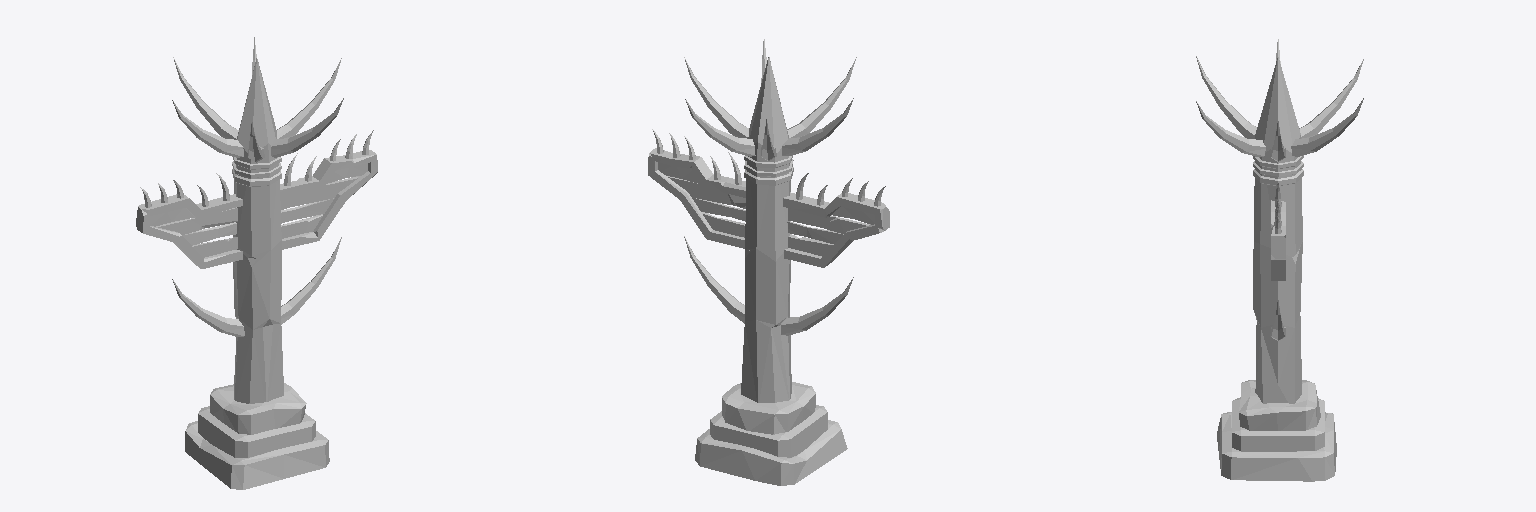
File: Totem_Bones.obj
The picture shows the model from 3 angles: view 1: azimuth 30°, elevation 25°; view 2: azimuth 150°, elevation 25°; view 3: azimuth 270°, elevation 25°; orthographic projection.
Visible parts, largest first — view 1: Totem_Bones; view 2: Totem_Bones; view 3: Totem_Bones.
Boxes of the visible parts, x1,y1,x2,y2 form: Totem_Bones: [136, 37, 377, 489]; Totem_Bones: [648, 39, 889, 485]; Totem_Bones: [1196, 39, 1363, 481].
Bounding box in the file's own units: 1.71 × 2.78 × 1.07.